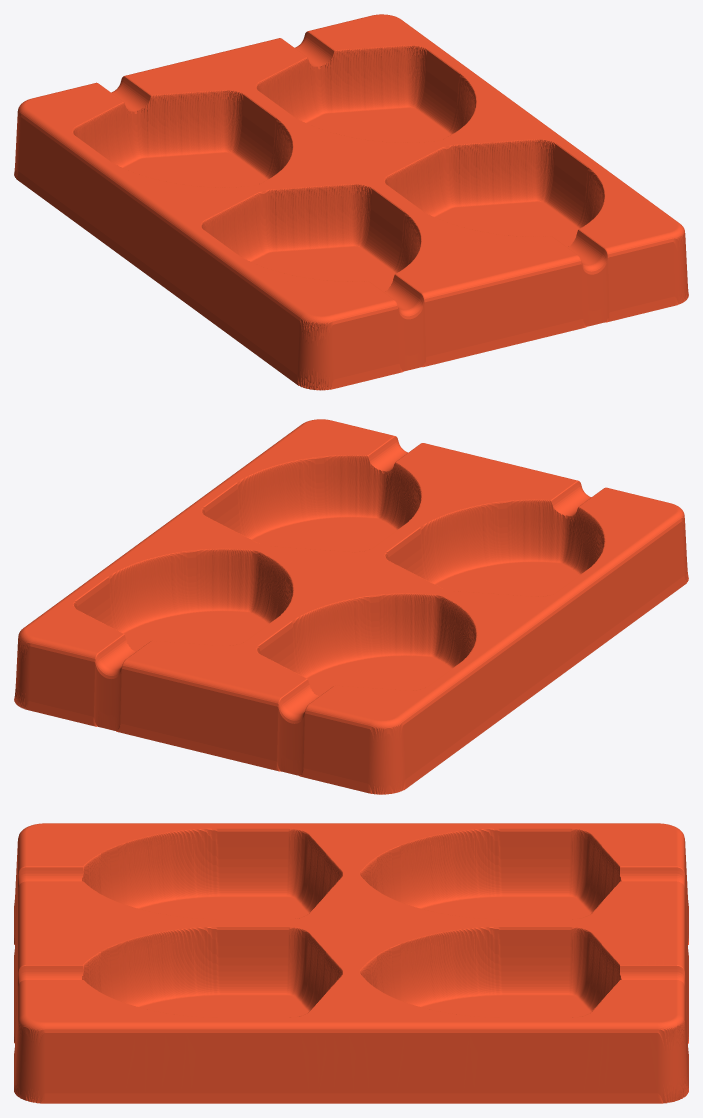
The model's file is mold.glb.
3 views of the same model, one above another, from view 1: azimuth 30°, elevation 25°; view 2: azimuth 150°, elevation 25°; view 3: azimuth 270°, elevation 25° (orthographic). The views are drawn at different scales.
Parts seen in each view (by area): view 1: geometry_0; view 2: geometry_0; view 3: geometry_0.
Boxes of the visible parts, bbox=[...] form: geometry_0: bbox=[14, 14, 688, 390]; geometry_0: bbox=[14, 419, 688, 794]; geometry_0: bbox=[14, 823, 688, 1103].
Size of the model in its own units: 0.1439 by 0.0245 by 0.1968.
